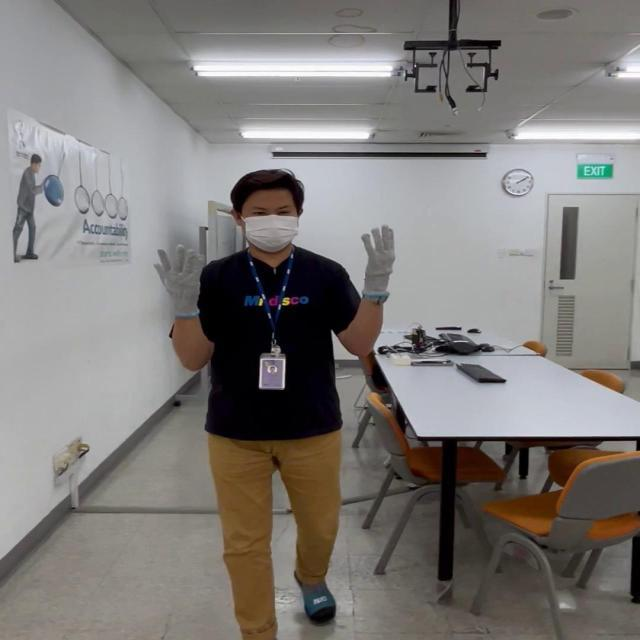gloved_hand: (155, 242, 216, 324), (354, 222, 396, 306)
